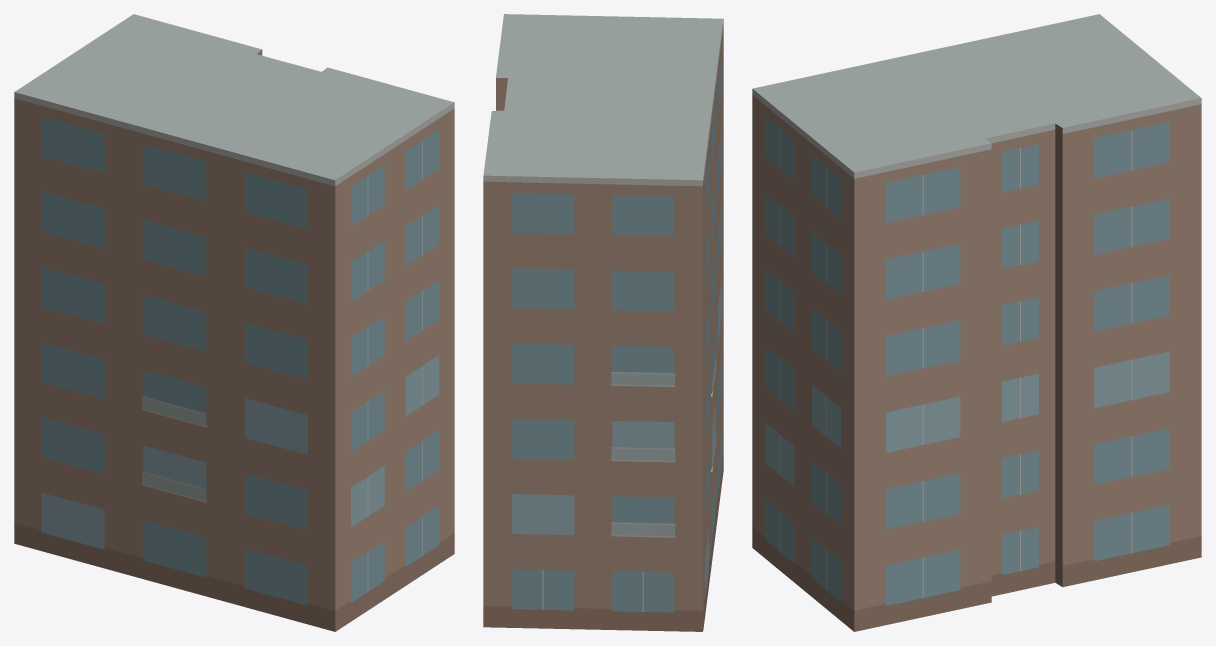
The model's file is survey-upis-32839378.glb.
3 views of the same model, side by side, from view 1: azimuth 30°, elevation 25°; view 2: azimuth 150°, elevation 25°; view 3: azimuth 270°, elevation 25° (orthographic).
Parts seen in each view (by area): view 1: survey-upis-32839378.tmp; view 2: survey-upis-32839378.tmp; view 3: survey-upis-32839378.tmp.
Boxes of the visible parts, bbox=[...] form: survey-upis-32839378.tmp: bbox=[14, 14, 454, 631]; survey-upis-32839378.tmp: bbox=[483, 14, 723, 631]; survey-upis-32839378.tmp: bbox=[752, 14, 1201, 631].
Size of the model in its own units: 13.57 by 18.3 by 16.23.
